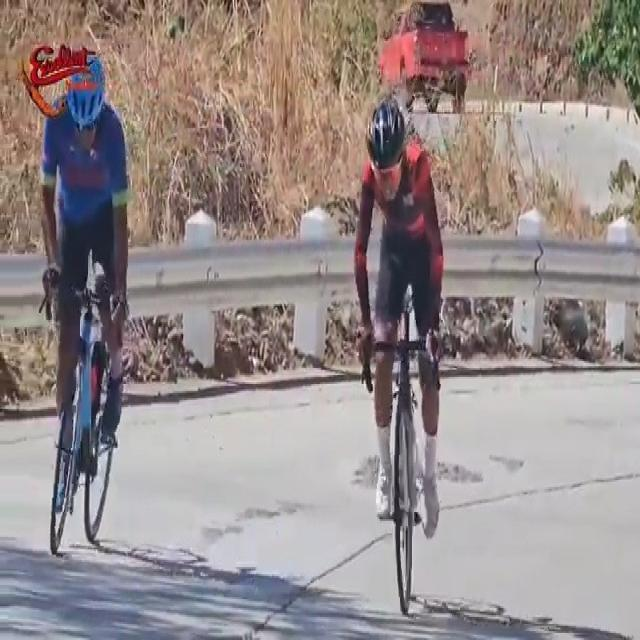bike: (352, 94, 452, 626), (37, 121, 135, 561)
car: (377, 0, 470, 117)
